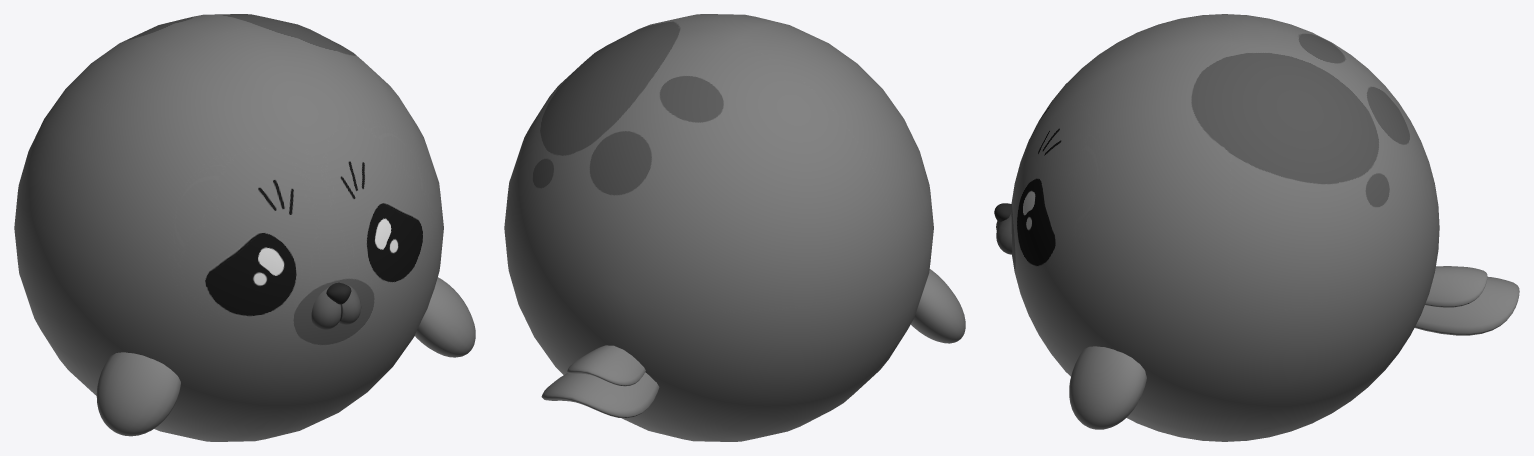
Rendered from Azarashi_goma.fbx.
3 views of the same model, side by side, from view 1: azimuth 30°, elevation 25°; view 2: azimuth 150°, elevation 25°; view 3: azimuth 270°, elevation 25° (orthographic).
Parts seen in each view (by area): view 1: body, R_hand, L_hand, mouth; view 2: body, tail, R_hand; view 3: body, tail, L_hand, mouth.
Part boxes in pixels (box(x1,y1,x2,y2)): body: box(14, 14, 443, 441); R_hand: box(96, 352, 180, 436); L_hand: box(415, 277, 475, 357); mouth: box(311, 285, 361, 329); body: box(504, 14, 933, 441); tail: box(541, 345, 659, 418); R_hand: box(911, 269, 965, 343); body: box(1011, 14, 1439, 441); tail: box(1414, 266, 1519, 335); L_hand: box(1069, 346, 1146, 429); mouth: box(996, 212, 1012, 254).
Size of the model in its own units: 161 by 160 by 197.
